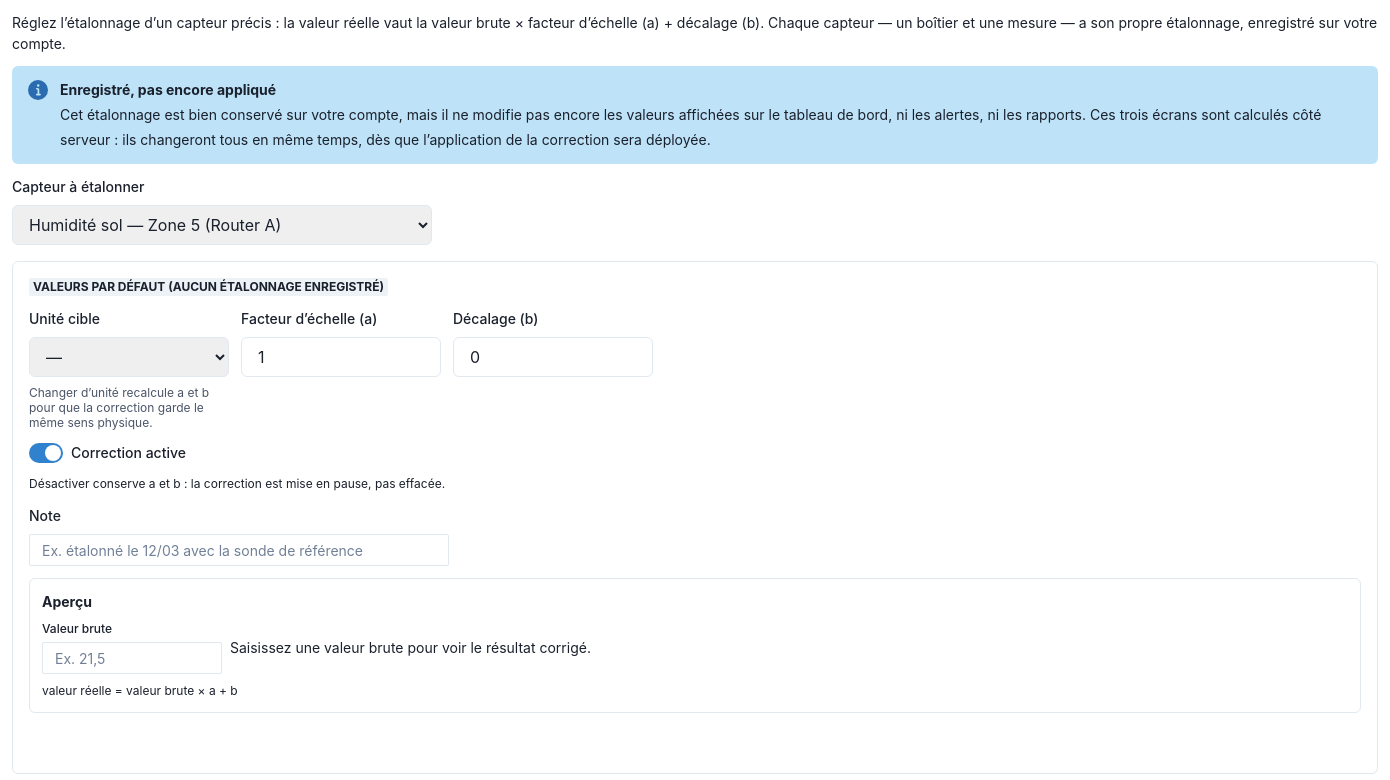
SensorCalibrationSettings — changing the target unit › RECOMPUTES a and b — °C→°F takes (2, 5) to (3.6, 41)
Select "Température sol — Zone 5 (Router A)" in the dropdown named "Capteur à étalonner": (222, 225) [12,205,432,245]
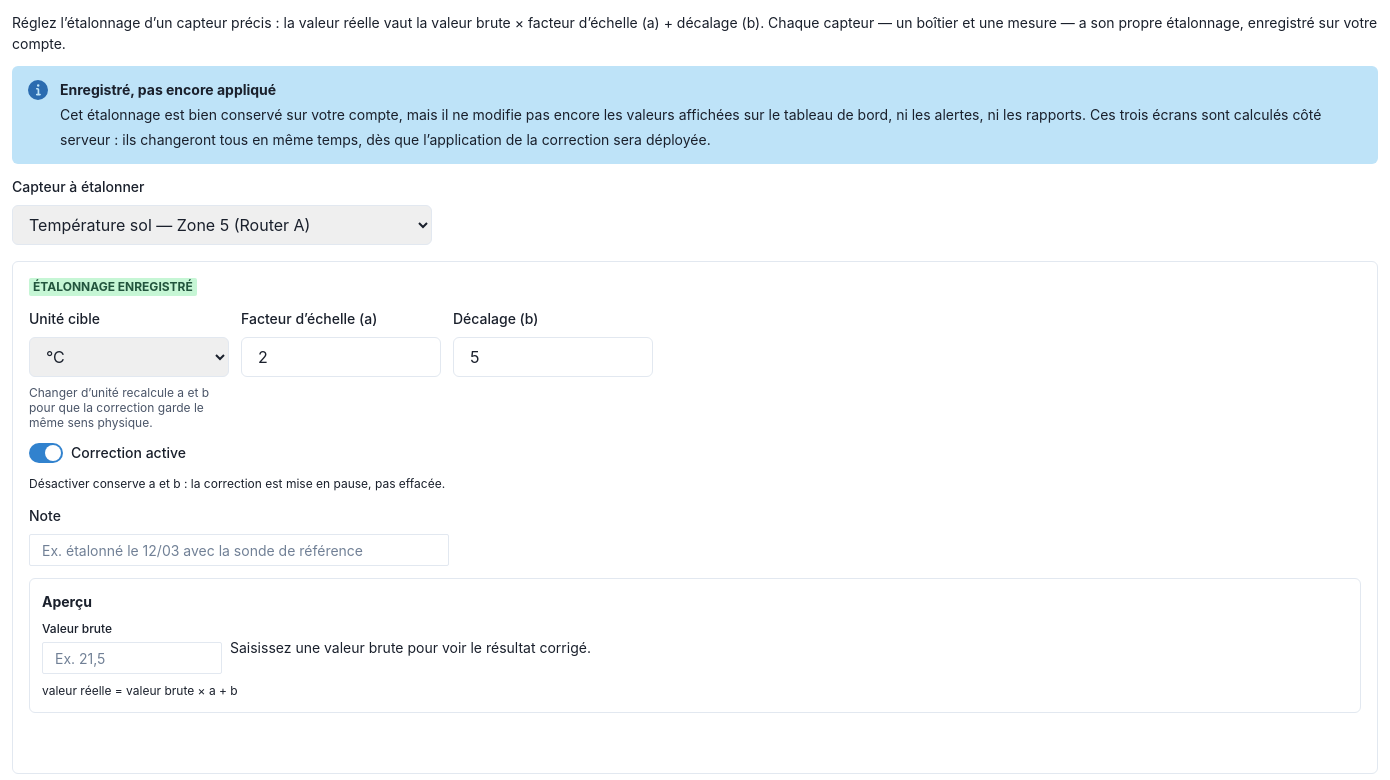
Check: the number field labelled "Facteur d’échelle (a)" holds "2", box [241,337,441,377]
Select "°F" in the dropdown named "Unité cible": (129, 357) [29,337,229,377]
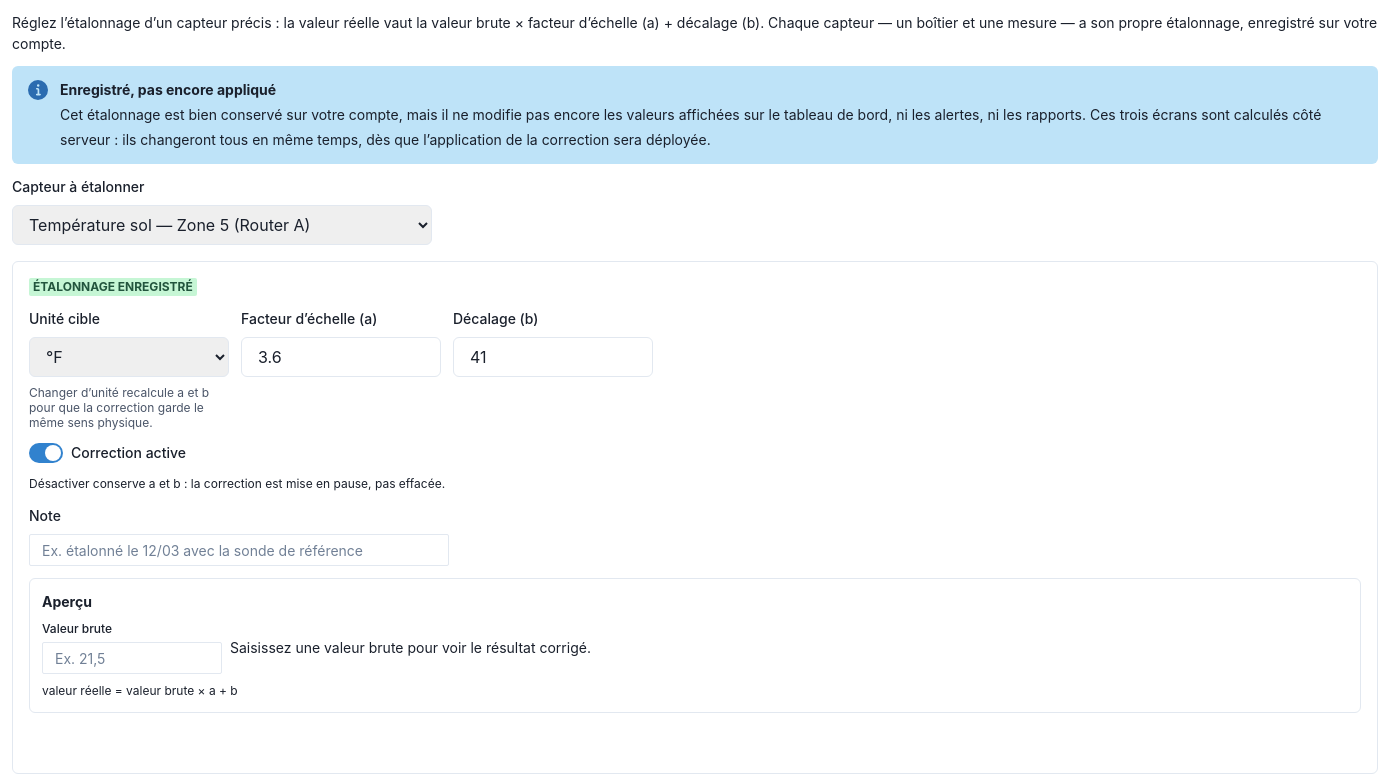
Check: the number field labelled "Facteur d’échelle (a)" holds "3.6", box [241,337,441,377]
Check: the number field labelled "Décalage (b)" holds "41", box [453,337,653,377]
